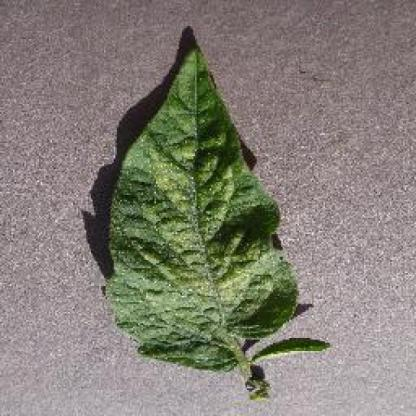Tomato_Spider_Mites: (104, 49, 328, 365)
